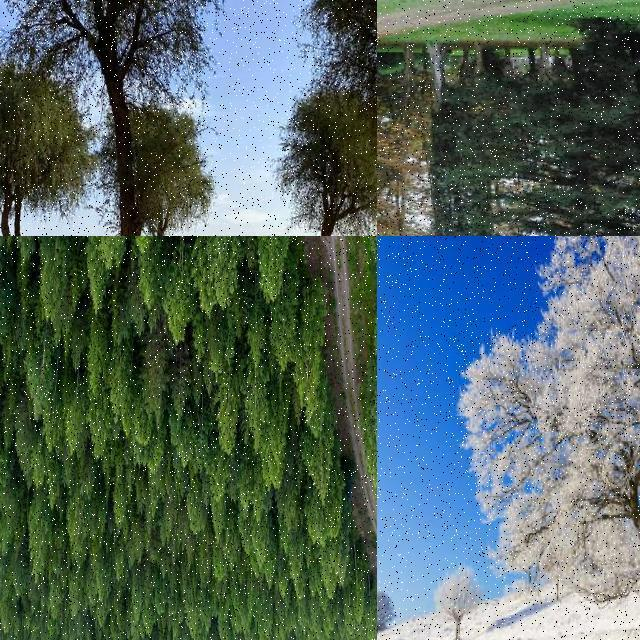tree: (456, 236, 640, 622), (4, 0, 260, 236), (512, 32, 640, 236), (0, 48, 94, 235), (275, 76, 377, 236), (113, 91, 214, 236), (428, 52, 504, 236), (377, 42, 439, 236), (292, 277, 330, 419), (193, 236, 247, 318), (0, 241, 28, 361), (302, 416, 338, 500), (22, 327, 54, 421), (164, 236, 192, 342), (270, 260, 298, 364), (240, 353, 268, 455), (260, 383, 288, 485), (39, 236, 70, 322), (255, 236, 292, 308), (306, 472, 342, 544), (177, 391, 209, 469), (25, 490, 51, 586), (359, 355, 376, 491), (134, 236, 162, 310), (217, 369, 239, 459), (64, 363, 85, 457), (108, 340, 132, 420), (0, 235, 24, 312), (86, 311, 108, 394), (84, 386, 108, 462), (146, 332, 168, 408), (276, 464, 302, 528), (62, 310, 86, 378), (0, 326, 16, 426), (92, 236, 128, 280), (85, 241, 106, 315), (1, 381, 16, 484), (68, 236, 88, 312), (171, 350, 193, 418), (15, 406, 33, 489), (207, 312, 230, 376), (67, 498, 89, 562), (86, 544, 108, 608), (133, 378, 153, 448), (110, 278, 130, 346), (208, 446, 232, 502), (1, 369, 16, 458), (247, 296, 265, 368), (17, 252, 33, 324), (0, 236, 16, 308), (0, 316, 14, 396), (1, 282, 16, 356), (238, 459, 258, 513), (187, 479, 205, 537), (45, 448, 63, 506), (112, 468, 128, 532), (30, 432, 46, 492), (352, 536, 363, 620), (78, 459, 98, 501), (252, 512, 268, 564), (68, 566, 84, 618), (0, 507, 16, 558), (209, 498, 227, 542), (0, 411, 12, 477), (158, 502, 176, 546), (132, 236, 156, 268), (0, 452, 12, 516), (0, 466, 12, 530), (48, 574, 64, 622), (364, 578, 376, 640), (18, 235, 38, 272), (224, 523, 240, 569), (130, 570, 144, 622), (238, 512, 254, 556), (131, 516, 145, 566), (255, 599, 272, 640), (193, 318, 207, 367), (154, 236, 178, 264), (0, 309, 12, 365), (5, 370, 19, 416), (321, 553, 335, 599), (12, 516, 28, 556), (212, 542, 228, 582), (0, 597, 16, 635), (290, 534, 302, 582), (264, 535, 276, 583), (342, 582, 353, 634), (0, 356, 8, 426), (2, 406, 15, 449), (0, 470, 12, 516), (0, 566, 8, 632), (113, 538, 125, 582), (154, 572, 166, 616), (324, 598, 340, 630), (142, 602, 156, 638), (147, 530, 161, 566), (0, 428, 8, 488), (278, 558, 290, 598), (134, 467, 146, 505), (186, 602, 198, 640), (0, 572, 10, 616), (115, 596, 125, 640), (2, 236, 18, 262), (297, 600, 309, 634), (1, 375, 8, 433), (64, 237, 85, 256), (331, 540, 342, 576), (247, 570, 256, 614), (1, 536, 8, 592), (294, 568, 306, 600), (0, 392, 8, 436), (185, 536, 195, 570), (168, 562, 178, 596), (371, 308, 377, 364), (1, 488, 8, 536), (0, 362, 6, 414), (158, 553, 170, 579), (35, 236, 57, 250), (164, 465, 173, 499), (289, 595, 297, 629), (1, 587, 8, 625), (218, 615, 228, 640), (0, 236, 8, 262), (308, 572, 316, 598), (131, 623, 143, 640), (1, 612, 8, 640), (93, 628, 105, 640), (0, 236, 6, 254)
